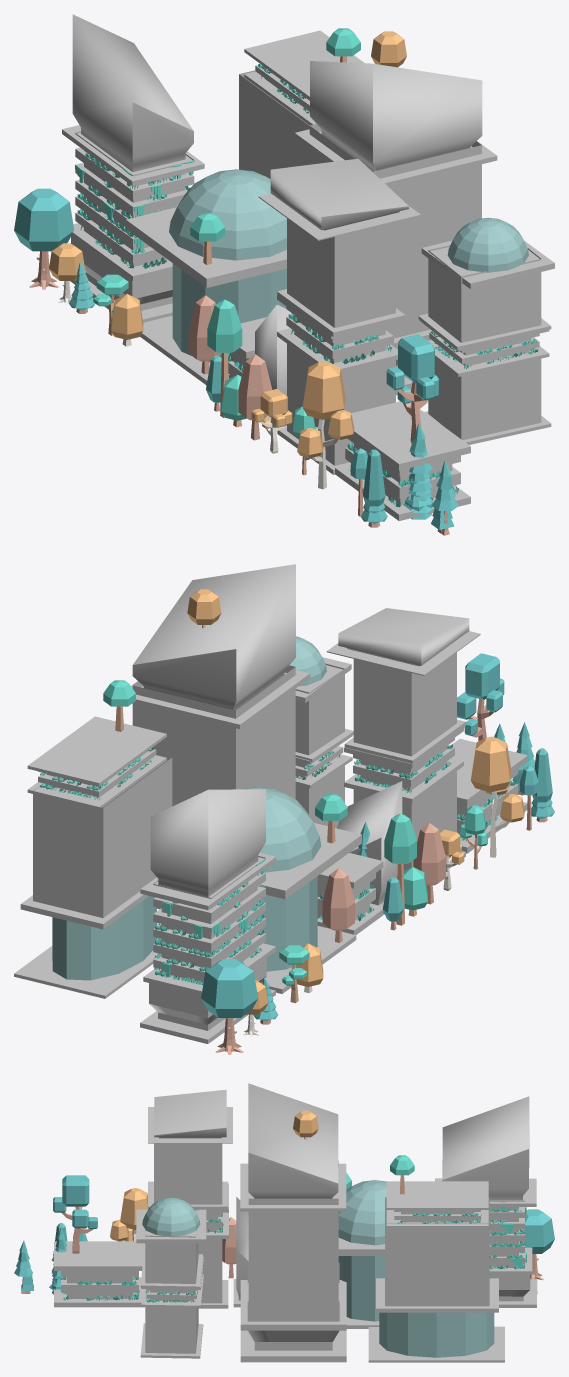
File: ciudad_quarter.fbx
3 views of the same model, one above another, from view 1: azimuth 30°, elevation 25°; view 2: azimuth 150°, elevation 25°; view 3: azimuth 270°, elevation 25° (orthographic). The views are drawn at different scales.
Visible parts, largest first — view 1: ciudad_half; view 2: ciudad_half; view 3: ciudad_half.
Part boxes in pixels (bbox=[...]): ciudad_half: bbox=[14, 14, 554, 535]; ciudad_half: bbox=[14, 564, 554, 1054]; ciudad_half: bbox=[14, 1083, 554, 1362].
Size of the model in its own units: 7696 by 8877 by 18182.
